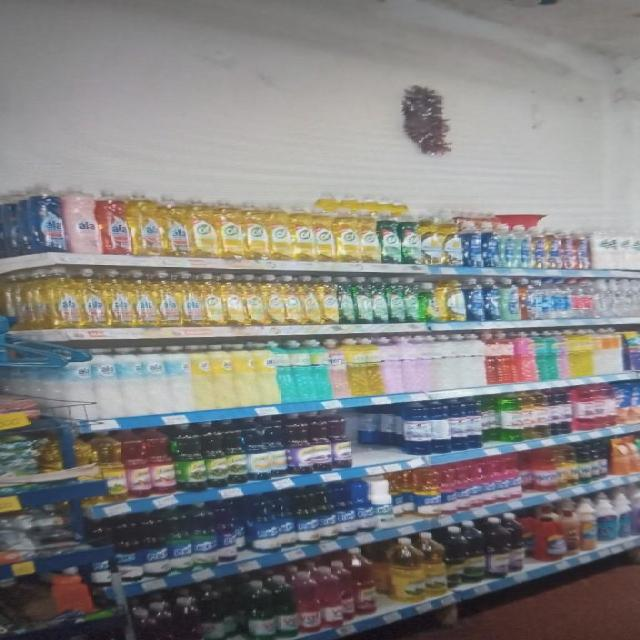ala_conc_amarillo: (133, 191, 164, 257), (56, 268, 81, 329), (166, 194, 190, 257), (107, 270, 132, 328), (82, 269, 106, 328), (133, 270, 157, 328), (158, 271, 181, 327), (182, 271, 202, 327)
ala_conc_azul: (28, 183, 65, 253)
ala_conc_rojo: (102, 188, 132, 256)
ala_crem_amarillo: (235, 342, 257, 407), (213, 344, 234, 409), (192, 344, 212, 410)
ala_crem_blanco: (62, 348, 94, 421), (94, 347, 120, 418), (120, 346, 146, 416), (145, 346, 169, 414), (168, 345, 190, 413), (257, 342, 277, 405)
ala_ultra_rosa: (66, 184, 101, 254)
cif_conc_bot_amarilla: (191, 196, 218, 258), (218, 198, 244, 258), (244, 200, 268, 260), (269, 200, 291, 260), (292, 202, 314, 262), (336, 203, 358, 263), (314, 205, 334, 262), (358, 208, 378, 263), (203, 272, 223, 327), (224, 273, 244, 326), (284, 275, 304, 325), (245, 274, 264, 326), (265, 275, 284, 325), (303, 276, 320, 325), (321, 276, 338, 325)
cif_conc_botella_verde: (380, 210, 400, 264), (400, 212, 420, 266), (388, 278, 404, 324), (372, 277, 387, 324), (356, 277, 371, 324)
magistral_con_amarillo: (421, 212, 442, 266), (442, 214, 461, 267)
